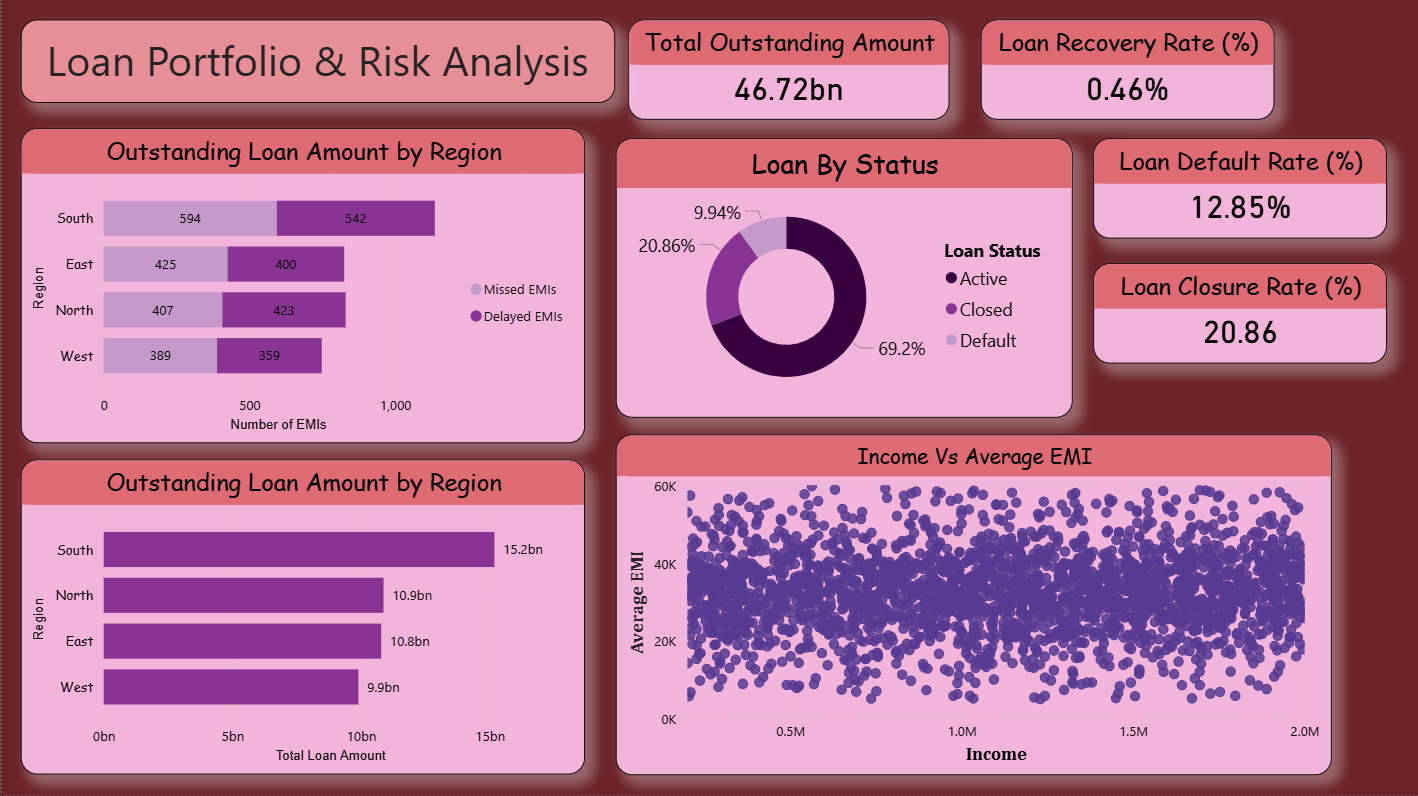

What the dashboard file says about the page in this screenshot:
{"tool":"powerbi","page":{"name":"Loan Portfolio & Risk Analysis","canvas":[1280,720],"ordinal":2},"visuals":[{"type":"card","title":"Total Outstanding Amount","fields":{"Values":["Sum(bank_db outstanding_amt_by_branch.outstanding_loan_amount)"]},"box":[564.6,20.7,289.4,90.4],"z":0},{"type":"card","title":"Loan Recovery Rate (%)","fields":{"Values":["All Measures.% Fully Paid Loans"]},"box":[882.4,20.7,264.8,90.4],"z":1000},{"type":"card","title":"Loan Default Rate (%)","fields":{"Values":["All Measures.Default_Rate"]},"box":[984.4,127.9,264.8,90.4],"z":2000},{"type":"textbox","box":[16.8,20.7,536.1,74.9],"z":3000},{"type":"barChart","title":"Outstanding Loan Amount by Region","fields":{"Y":["Sum(bank_db outstanding_loan_amt_by_region.outstanding_loan_amount)"],"Category":["bank_db outstanding_loan_amt_by_region.region"]},"box":[16.8,417.3,509,284.2],"z":4000},{"type":"barChart","title":"Outstanding Loan Amount by Region","fields":{"Category":["bank_db region_wise_credit_risk.region"],"Y":["Sum(bank_db region_wise_credit_risk.missed_emis)","Sum(bank_db region_wise_credit_risk.delayed_emis)"]},"box":[16.8,118.9,509,284.2],"z":5000},{"type":"donutChart","title":"Loan By Status","fields":{"Series":["bank_db bank_loans.loan_status"],"Y":["CountNonNull(bank_db bank_loans.customer_id)"]},"box":[552.9,127.9,412.1,251.9],"z":6000},{"type":"scatterChart","title":"Income Vs Average EMI","fields":{"X":["bank_db avg_emi_vs_income.income"],"Y":["bank_db avg_emi_vs_income.avg_emi"]},"box":[552.9,394,645.9,307.5],"z":7000},{"type":"card","title":"Loan Closure Rate (%)","fields":{"Values":["Sum(bank_db loan_closure_rate.closure_rate_pct)"]},"box":[984.4,240.3,264.8,90.4],"z":8000}]}

Visuals, with their boxes in screenshot pixels (x1, y1, x2, y2), scaled from the page's 1280x720 canvas onto the 1418x796 screenshot:
"Total Outstanding Amount" card: region(625, 23, 946, 123)
"Loan Recovery Rate (%)" card: region(978, 23, 1271, 123)
"Loan Default Rate (%)" card: region(1091, 141, 1384, 241)
textbox: region(19, 23, 613, 106)
"Outstanding Loan Amount by Region" barChart: region(19, 461, 582, 776)
"Outstanding Loan Amount by Region" barChart: region(19, 131, 582, 446)
"Loan By Status" donutChart: region(613, 141, 1069, 420)
"Income Vs Average EMI" scatterChart: region(613, 436, 1328, 776)
"Loan Closure Rate (%)" card: region(1091, 266, 1384, 366)
